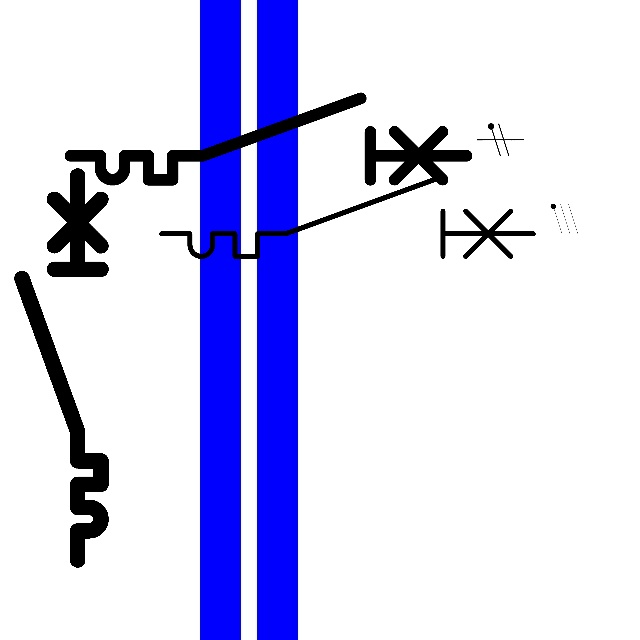interruptor_termomagnetico: (60, 88, 477, 190), (12, 166, 111, 570), (152, 170, 543, 266)
